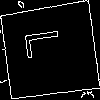L: (24, 26, 70, 60)
